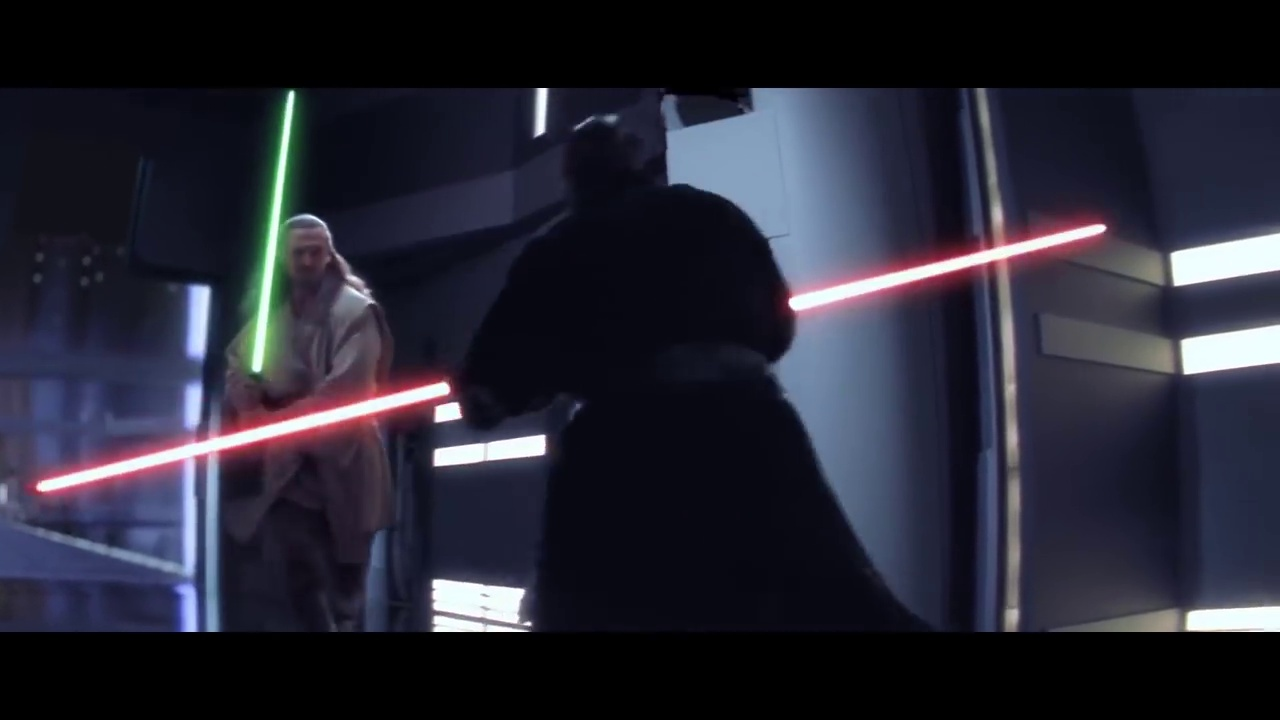lightsaber: (34, 373, 458, 494), (788, 222, 1112, 312), (244, 82, 298, 418)
